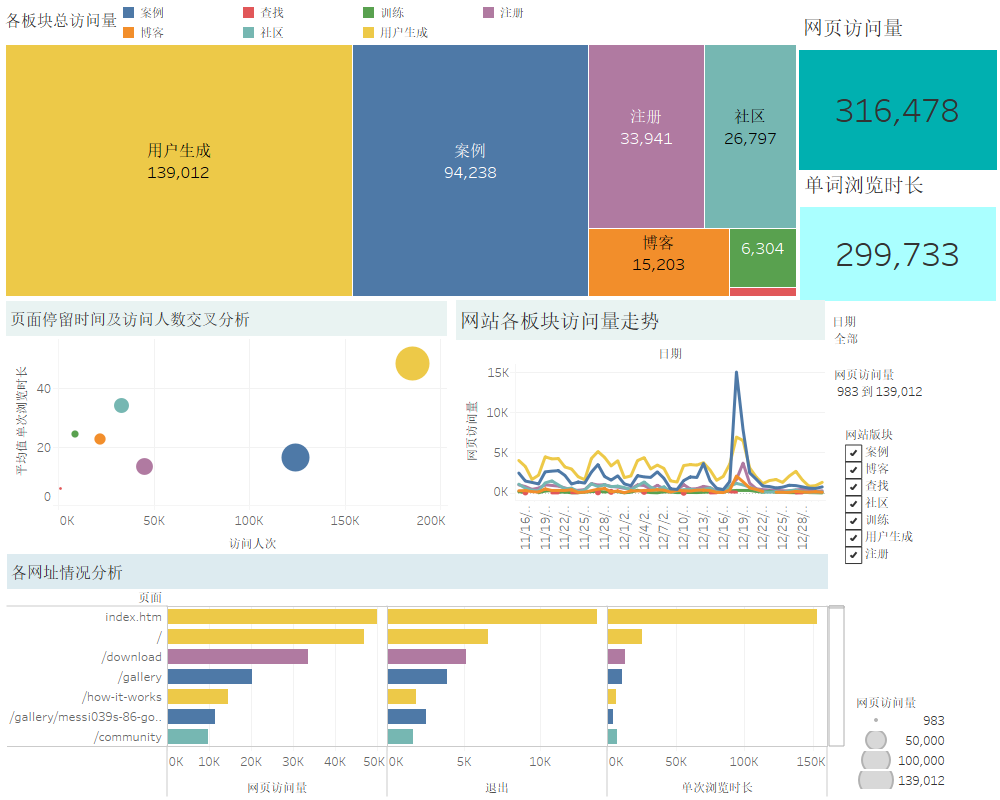

The page's visual inventory and layout, read from the dashboard file:
{"tool":"tableau","page":{"name":"网站访问仪表盘","canvas":[1000,800],"ordinal":0},"visuals":[{"type":"worksheet","title":"各板块总访问量","mark":"Automatic","box":[1,2,799,299]},{"type":"worksheet","title":"网页访问量","mark":"Automatic","box":[799,7,197,162]},{"type":"worksheet","title":"单词浏览时长","mark":"Automatic","box":[800,164,195,136]},{"type":"worksheet","title":"网站各板块访问量走势","mark":"Line","rows":["网页访问量"],"cols":["日期"],"box":[456,300,369,253]},{"type":"worksheet","title":"页面停留时间及访问人数交叉分析","mark":"Circle","rows":["Calculation_1018376469406126080"],"cols":["访问人次"],"box":[6,301,441,251]},{"type":"worksheet","title":"网站各板块访问量走势","mark":"Line","rows":["网页访问量"],"cols":["日期"],"param":"[federated.1vw8yic0uvj2wk1534xqg19vsh8o].[none:日期:nk]","box":[832,312,160,44]},{"type":"worksheet","title":"页面停留时间及访问人数交叉分析","mark":"Circle","rows":["Calculation_1018376469406126080"],"cols":["访问人次"],"param":"[federated.1vw8yic0uvj2wk1534xqg19vsh8o].[sum:网页访问量:qk]","box":[834,365,160,61]},{"type":"worksheet","title":"各板块总访问量","mark":"Automatic","param":"[federated.1vw8yic0uvj2wk1534xqg19vsh8o].[none:网站版块:nk]","box":[845,425,149,184]},{"type":"worksheet","title":"各网址情况分析","mark":"Bar","rows":["页面"],"cols":["网页访问量","退出","Calculation_1018376469406126080"],"box":[7,554,838,243]},{"type":"worksheet","title":"页面停留时间及访问人数交叉分析","mark":"Circle","rows":["Calculation_1018376469406126080"],"cols":["访问人次"],"param":"[federated.1vw8yic0uvj2wk1534xqg19vsh8o].[sum:网页访问量:qk]","box":[855,692,140,102]}]}

Visuals, with their boxes in screenshot pixels (x1, y1, x2, y2), scaled from the page's 1000x800 canvas onto the 1000x800 screenshot:
"各板块总访问量" worksheet: l=1, t=2, r=800, b=301
"网页访问量" worksheet: l=799, t=7, r=996, b=169
"单词浏览时长" worksheet: l=800, t=164, r=995, b=300
"网站各板块访问量走势" worksheet (Line marks): l=456, t=300, r=825, b=553
"页面停留时间及访问人数交叉分析" worksheet (Circle marks): l=6, t=301, r=447, b=552
"网站各板块访问量走势" worksheet (Line marks): l=832, t=312, r=992, b=356
"页面停留时间及访问人数交叉分析" worksheet (Circle marks): l=834, t=365, r=994, b=426
"各板块总访问量" worksheet: l=845, t=425, r=994, b=609
"各网址情况分析" worksheet (Bar marks): l=7, t=554, r=845, b=797
"页面停留时间及访问人数交叉分析" worksheet (Circle marks): l=855, t=692, r=995, b=794
